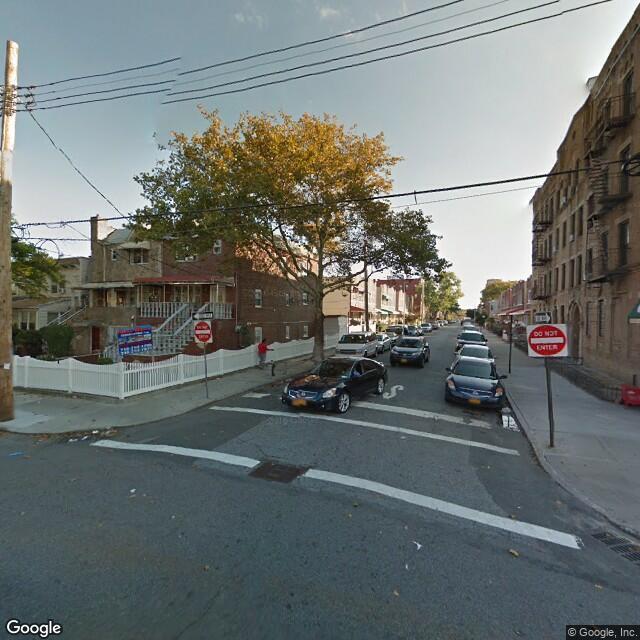litter: (52, 431, 114, 445), (502, 544, 525, 559)
